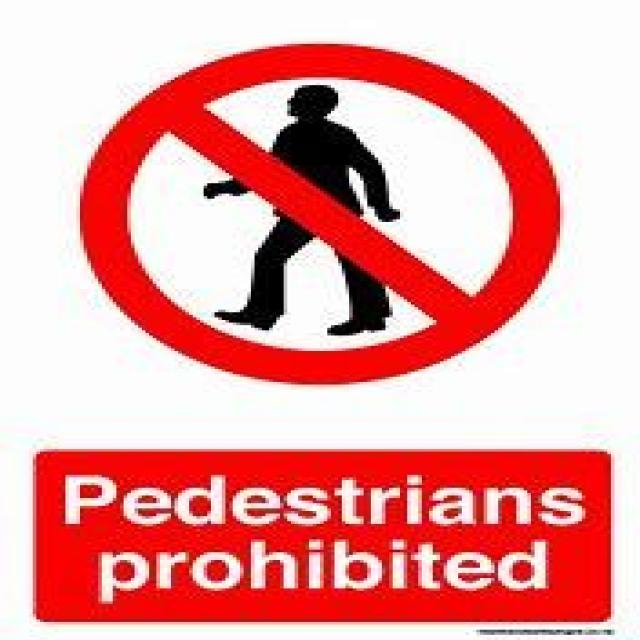Priority road: (73, 39, 560, 382)
